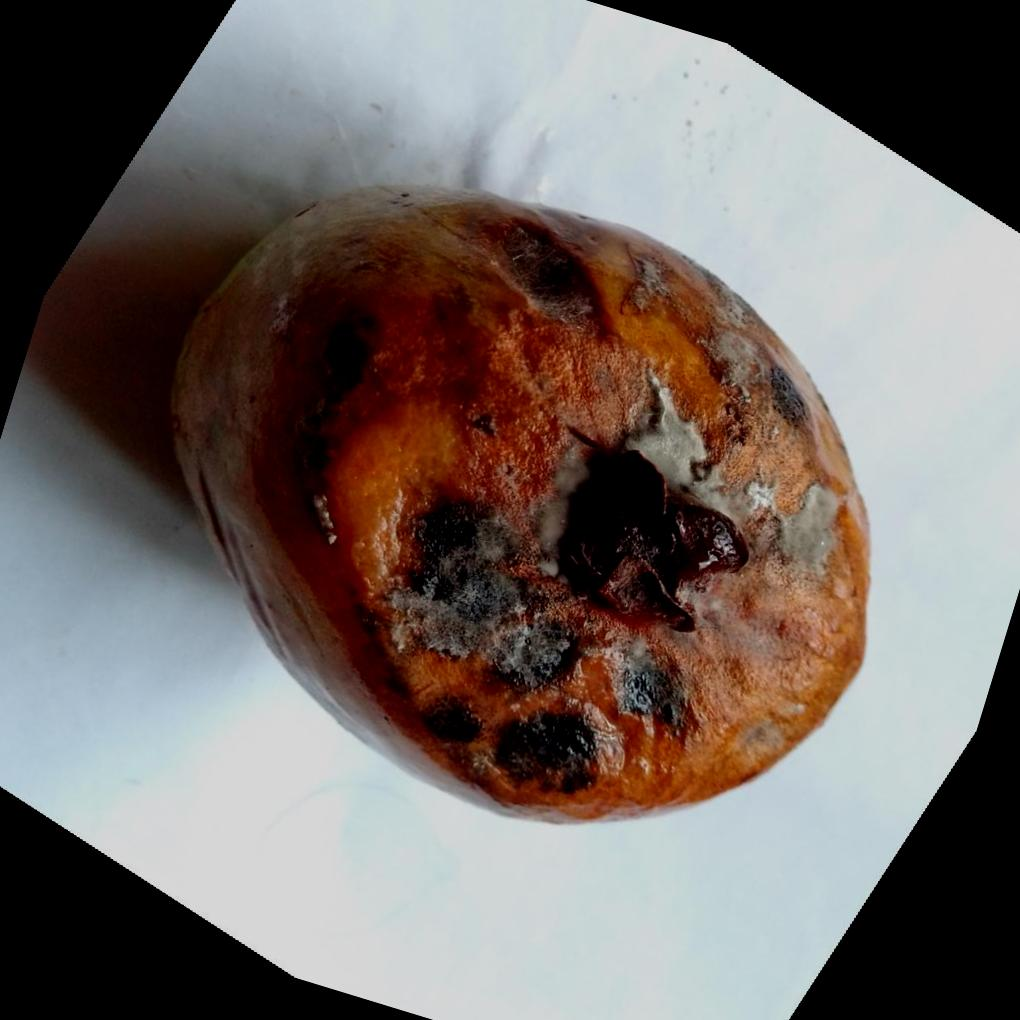FreshOrange: (161, 181, 869, 825)
